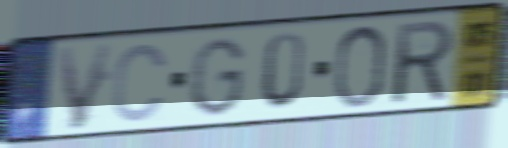0: (257, 30, 307, 114)
C: (109, 40, 171, 125)
G: (185, 35, 249, 120)
O: (330, 21, 390, 112)
R: (392, 16, 457, 108)
V: (53, 39, 117, 134)
